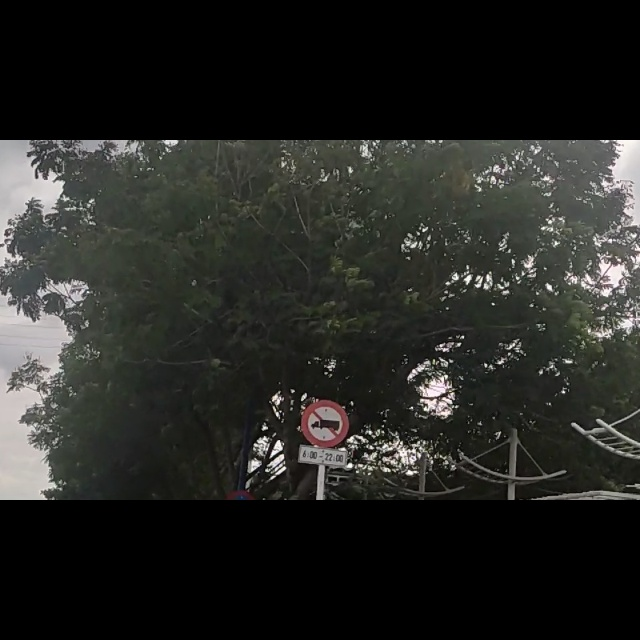bien_cam: (299, 465, 348, 577)
